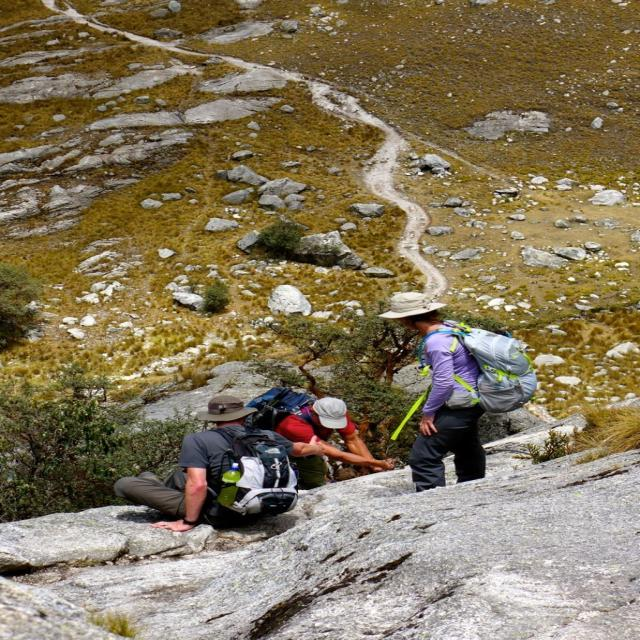backpack: (195, 421, 298, 523), (426, 320, 540, 411), (256, 380, 316, 430)
